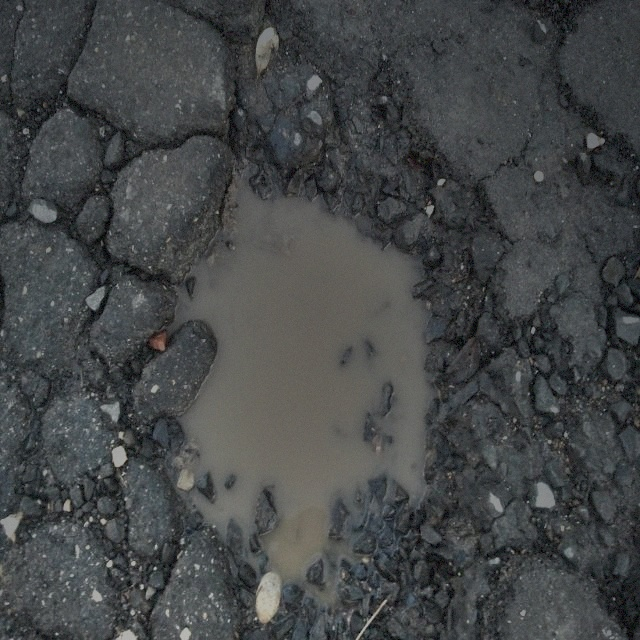pothole: (153, 137, 447, 606)
